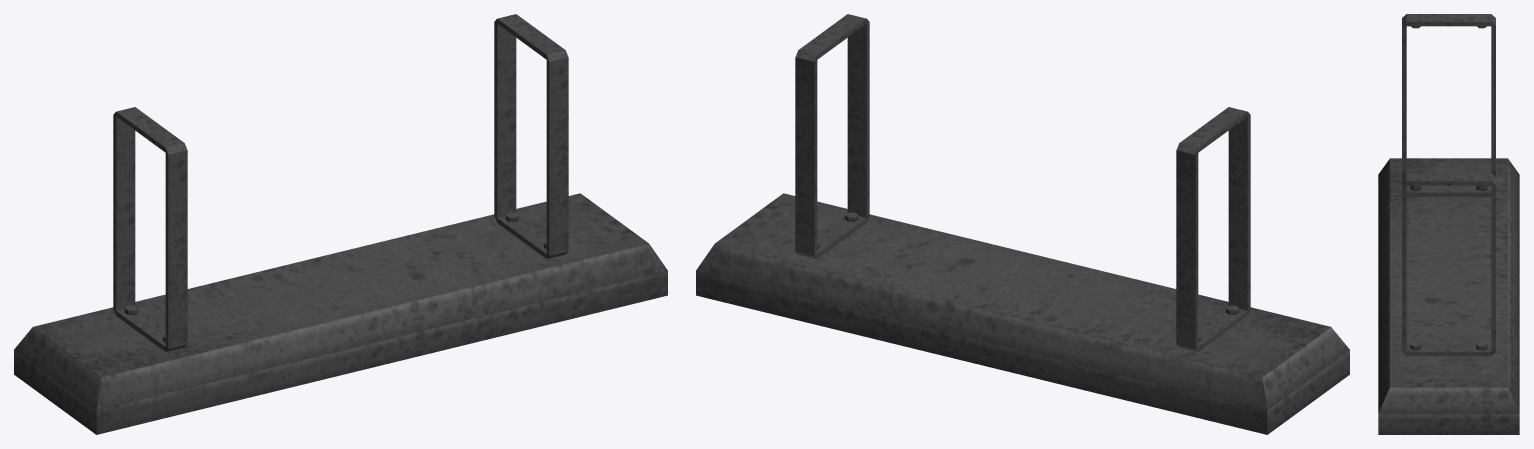
File: ceiling_lamp_4_b_on.fbx
3 views of the same model, side by side, from view 1: azimuth 30°, elevation 25°; view 2: azimuth 150°, elevation 25°; view 3: azimuth 270°, elevation 25° (orthographic). The views are drawn at different scales.
Visible parts, largest first — view 1: ceiling_lamp_4_b_on; view 2: ceiling_lamp_4_b_on; view 3: ceiling_lamp_4_b_on.
Part boxes in pixels (bbox=[...]): ceiling_lamp_4_b_on: bbox=[14, 14, 667, 434]; ceiling_lamp_4_b_on: bbox=[696, 14, 1349, 434]; ceiling_lamp_4_b_on: bbox=[1378, 14, 1519, 434].
Size of the model in its own units: 1.2 by 0.51 by 0.3.
1 material, 1 textured.
